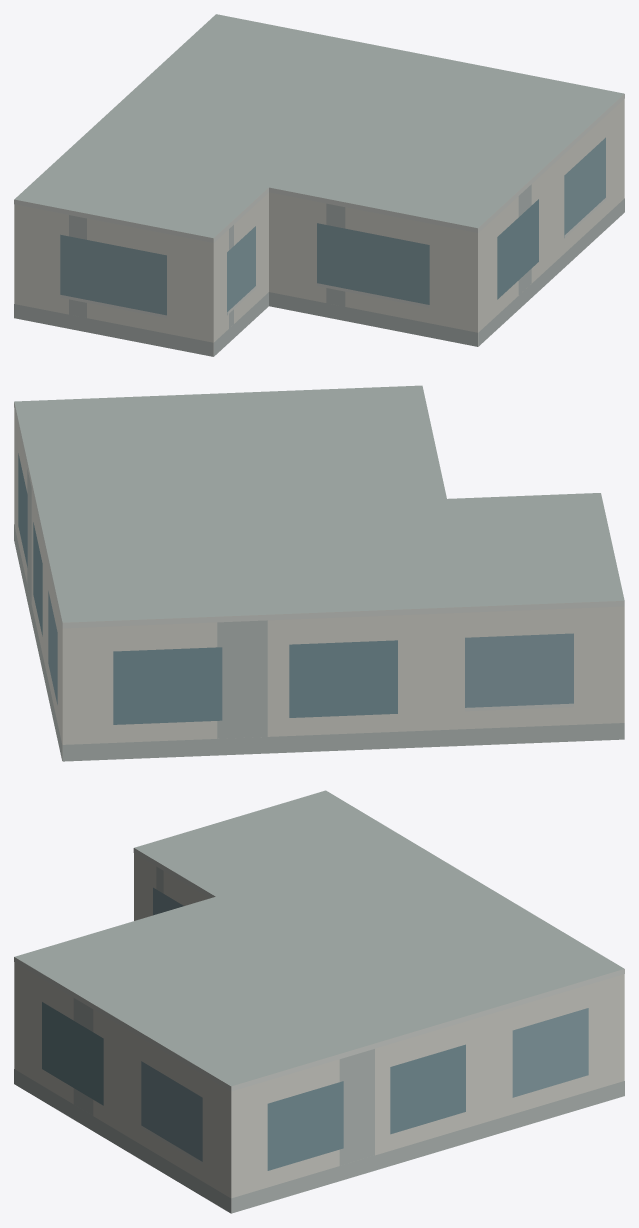
The model's file is residential-53b5d818-ce6e-4527-90d7-7b57ef546837.glb.
3 views of the same model, one above another, from view 1: azimuth 30°, elevation 25°; view 2: azimuth 150°, elevation 25°; view 3: azimuth 270°, elevation 25° (orthographic). The views are drawn at different scales.
Visible parts, largest first — view 1: residential-53b5d818-ce6e-4527-90d7-7b57ef546837.tmp; view 2: residential-53b5d818-ce6e-4527-90d7-7b57ef546837.tmp; view 3: residential-53b5d818-ce6e-4527-90d7-7b57ef546837.tmp.
Part boxes in pixels (left/top/right/bottom): residential-53b5d818-ce6e-4527-90d7-7b57ef546837.tmp: left=14, top=14, right=624, bottom=356; residential-53b5d818-ce6e-4527-90d7-7b57ef546837.tmp: left=14, top=385, right=624, bottom=761; residential-53b5d818-ce6e-4527-90d7-7b57ef546837.tmp: left=14, top=790, right=624, bottom=1213.
Size of the model in its own units: 15.25 by 3.05 by 13.29.
